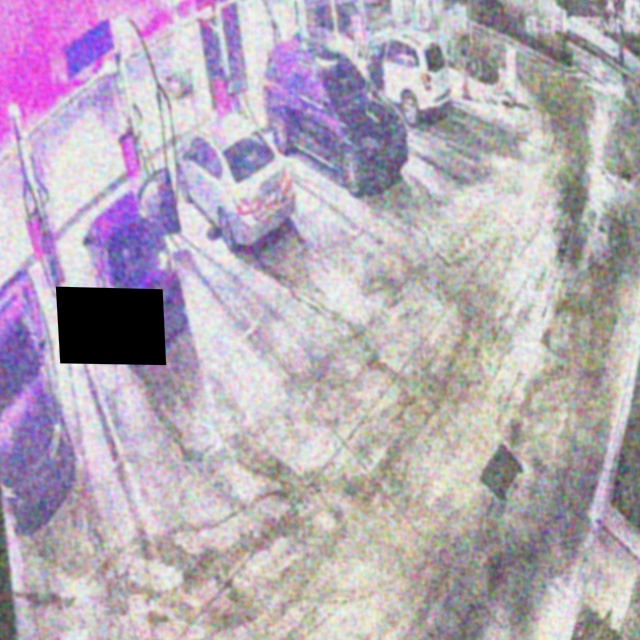Car: (257, 30, 410, 196), (77, 163, 192, 363), (171, 106, 298, 251)
